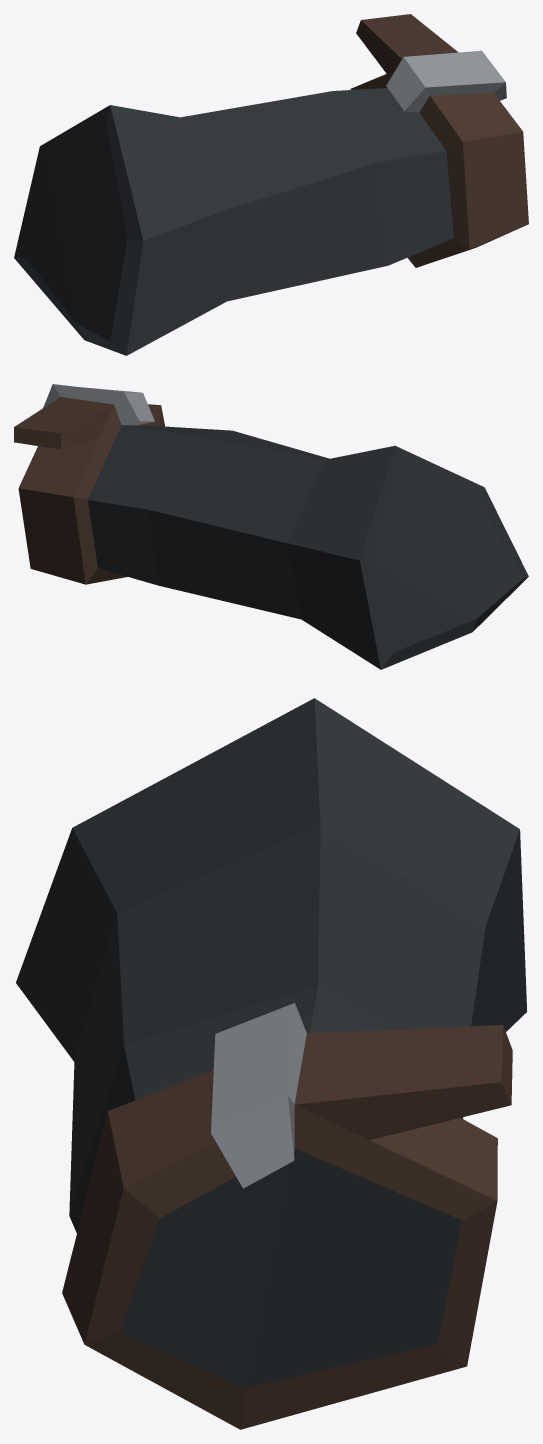
File: Chr_ArmUpperLeft_Male_10_Static.fbx
The picture shows the model from 3 angles, top to bottom: view 1: azimuth 30°, elevation 25°; view 2: azimuth 150°, elevation 25°; view 3: azimuth 270°, elevation 25°; orthographic projection. The views are drawn at different scales.
Visible parts, largest first — view 1: Chr_ArmUpperLeft_Male_10_Static; view 2: Chr_ArmUpperLeft_Male_10_Static; view 3: Chr_ArmUpperLeft_Male_10_Static.
Boxes of the visible parts, left/top/right/bottom form: Chr_ArmUpperLeft_Male_10_Static: left=14, top=14, right=528, bottom=355; Chr_ArmUpperLeft_Male_10_Static: left=14, top=384, right=528, bottom=669; Chr_ArmUpperLeft_Male_10_Static: left=16, top=698, right=527, bottom=1429.
Bounding box in the file's own units: 0.334 × 0.1569 × 0.1736.
